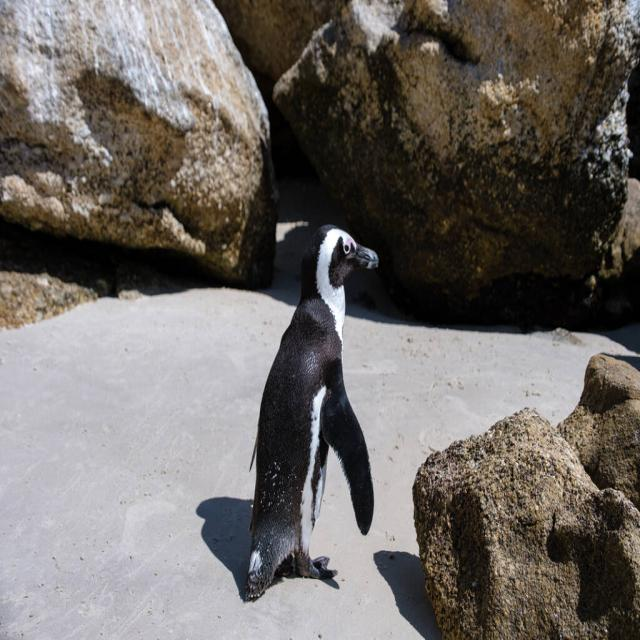Penguins: (236, 212, 393, 607)
